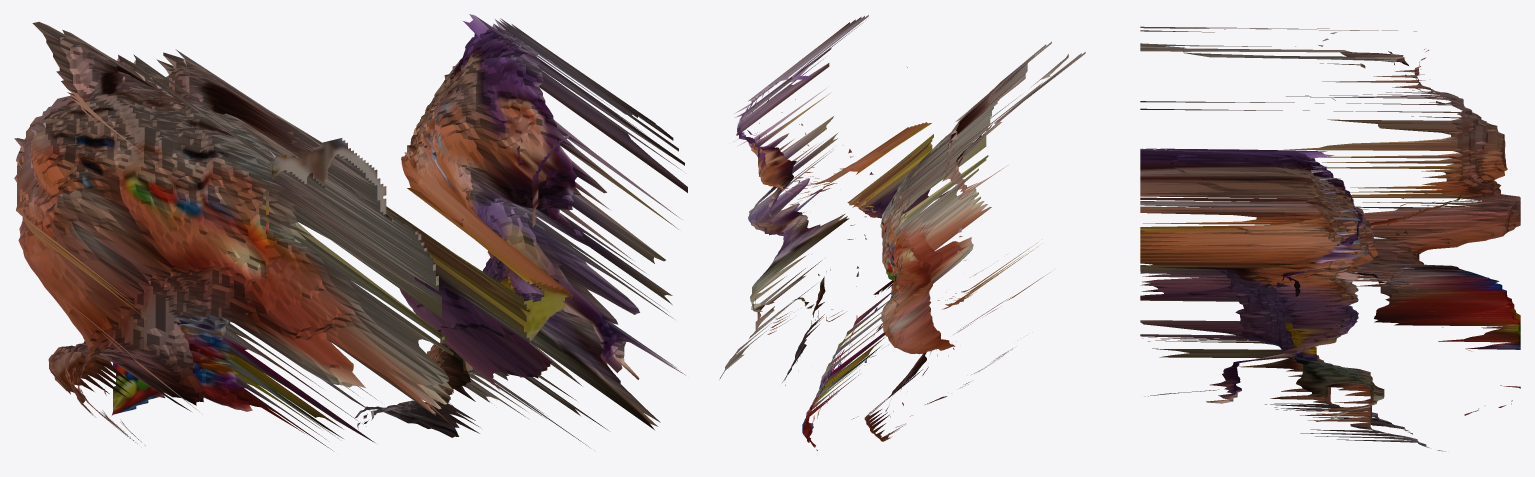
File: frame_00408.glb
3 views of the same model, side by side, from view 1: azimuth 30°, elevation 25°; view 2: azimuth 150°, elevation 25°; view 3: azimuth 270°, elevation 25° (orthographic). The views are drawn at different scales.
Visible parts, largest first — view 1: geometry_0; view 2: geometry_0; view 3: geometry_0.
Part boxes in pixels (box(x1,y1,x2,y2)): geometry_0: box(14, 14, 687, 450); geometry_0: box(719, 15, 1085, 450); geometry_0: box(1140, 26, 1520, 451).
Bounding box in the file's own units: 0.1516 × 0.1576 × 0.16.
Materials: 1 (1 with a texture image).
